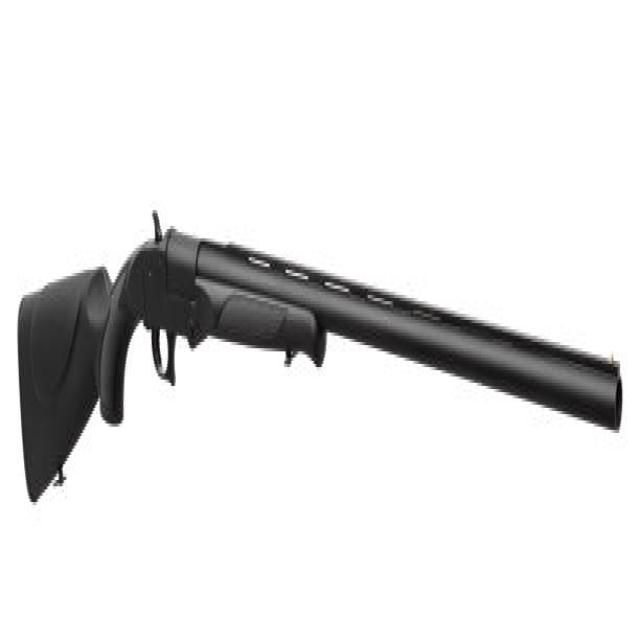rifle: (16, 208, 627, 519)
